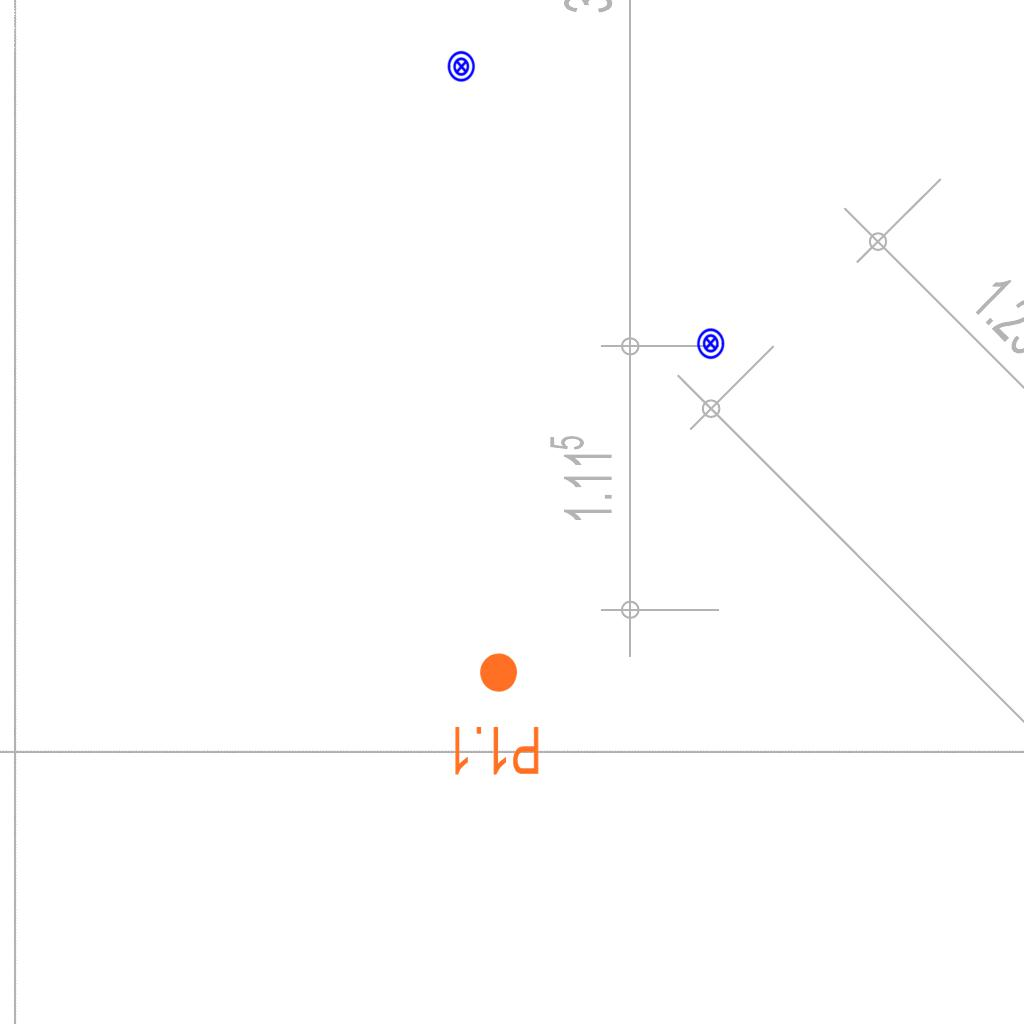Downlight_LED_Einbauleuchten_Flur: (449, 650, 542, 778)
Taster_beleuchtet: (445, 50, 478, 83), (694, 327, 727, 360)
